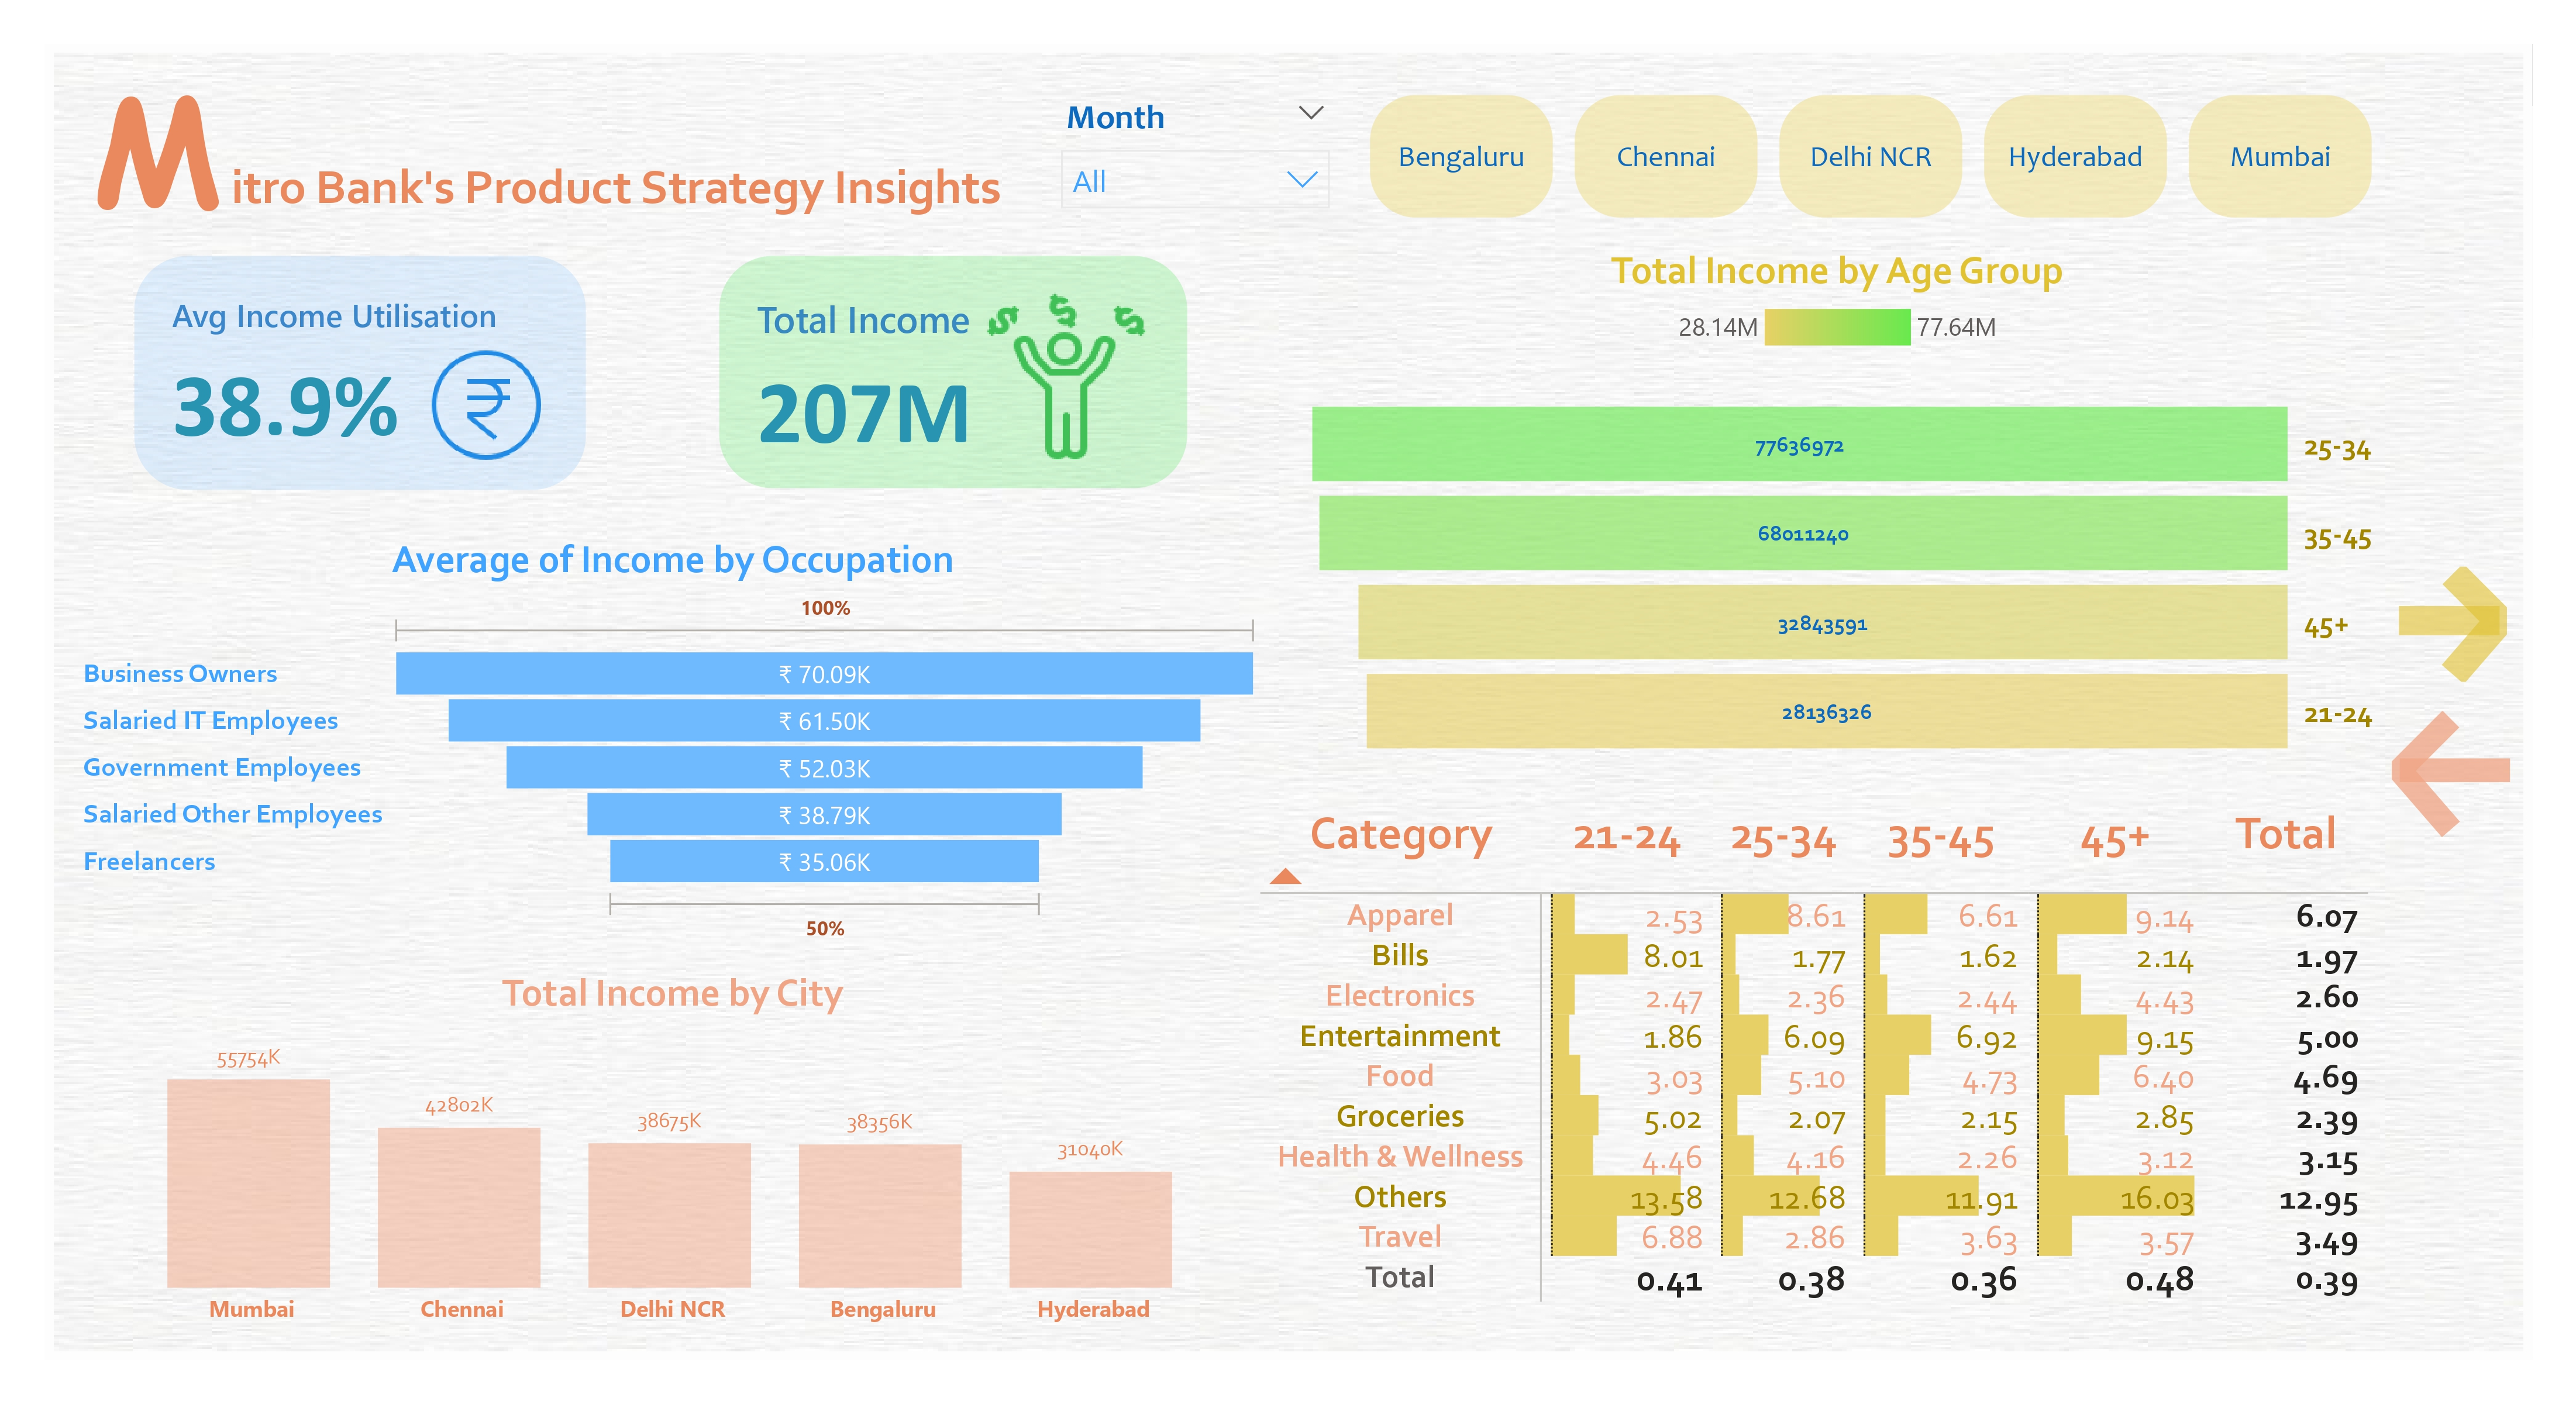

The page's visual inventory and layout, read from the dashboard file:
{"tool":"powerbi","page":{"name":"Income","canvas":[1361,720],"ordinal":1},"visuals":[{"type":"textbox","title":"M","box":[14.7,0,93,99],"z":0,"group":"g2"},{"type":"textbox","title":"itro Bank''s Product Strategy Insights","box":[96.7,62.1,446.1,35.6],"z":1000,"group":"g2"},{"type":"image","box":[0,0,1361.1,720],"z":8000},{"type":"cardVisual","fields":{"Data":["fact_spends.Avg Income Utilisation"]},"box":[44,111.2,256.7,138.1],"z":9000,"group":"g1"},{"type":"cardVisual","fields":{"Data":["dim_customers.Total Income"]},"box":[364.3,111.2,265.3,136.9],"z":9000},{"type":"group","id":"g1","title":"Group 2","box":[44,111.2,256.7,138.1],"z":10000},{"type":"advancedSlicerVisual","fields":{"Values":["dim_customers.city"]},"box":[720,23.2,559.9,77],"z":11000},{"type":"slicer","fields":{"Values":["fact_spends.month"]},"box":[546.4,23.2,166.2,75.8],"z":12000},{"type":"funnel","title":"Average of Income by Occupation","fields":{"Category":["dim_customers.occupation"],"Y":["Avg(dim_customers.avg_income)"]},"box":[15.9,268.9,655.2,227.4],"z":13000},{"type":"clusteredColumnChart","title":"Total Income by City","fields":{"Category":["dim_customers.city"],"Y":["dim_customers.Total Income"]},"box":[15.9,506.1,655.2,204.1],"z":14000},{"type":"barChart","fields":{"Category":["dim_customers.age_group"],"Y":["dim_customers.Total Income"]},"box":[680.9,111.2,599,299.5],"z":15000},{"type":"pivotTable","fields":{"Rows":["fact_spends.category"],"Columns":["dim_customers.age_group"],"Values":["fact_spends.Average Income Utilisation"]},"box":[660.1,410.7,619.8,299.5],"z":16000},{"type":"image","box":[204.1,160.1,74.6,74.6],"z":17000},{"type":"image","box":[506.1,130.8,106.3,101.5],"z":18000},{"type":"group","id":"g2","title":"Group 3","box":[14.7,0,528.1,99],"z":19000},{"type":"actionButton","box":[1279.9,262.8,80.7,97.8],"z":20000},{"type":"actionButton","box":[1279.9,360.6,80.7,77],"z":21000}]}

Visuals, with their boxes on the page's 1361x720 design canvas (x1, y1, x2, y2). These are canvas units, not pixel positions in the 2576x1404 screenshot, which may show the page scaled, cropped or inside an application window:
"M" textbox: 15, 0, 108, 99
"itro Bank''s Product Strategy Insights" textbox: 97, 62, 543, 98
image: 0, 0, 1361, 720
cardVisual - fact_spends.Avg Income Utilisation: 44, 111, 301, 249
cardVisual - dim_customers.Total Income: 364, 111, 630, 248
"Group 2" group: 44, 111, 301, 249
advancedSlicerVisual - dim_customers.city: 720, 23, 1280, 100
slicer - fact_spends.month: 546, 23, 713, 99
"Average of Income by Occupation" funnel: 16, 269, 671, 496
"Total Income by City" clusteredColumnChart: 16, 506, 671, 710
barChart - dim_customers.age_group x dim_customers.Total Income: 681, 111, 1280, 411
pivotTable - fact_spends.category x dim_customers.age_group: 660, 411, 1280, 710
image: 204, 160, 279, 235
image: 506, 131, 612, 232
"Group 3" group: 15, 0, 543, 99
actionButton: 1280, 263, 1361, 361
actionButton: 1280, 361, 1361, 438
